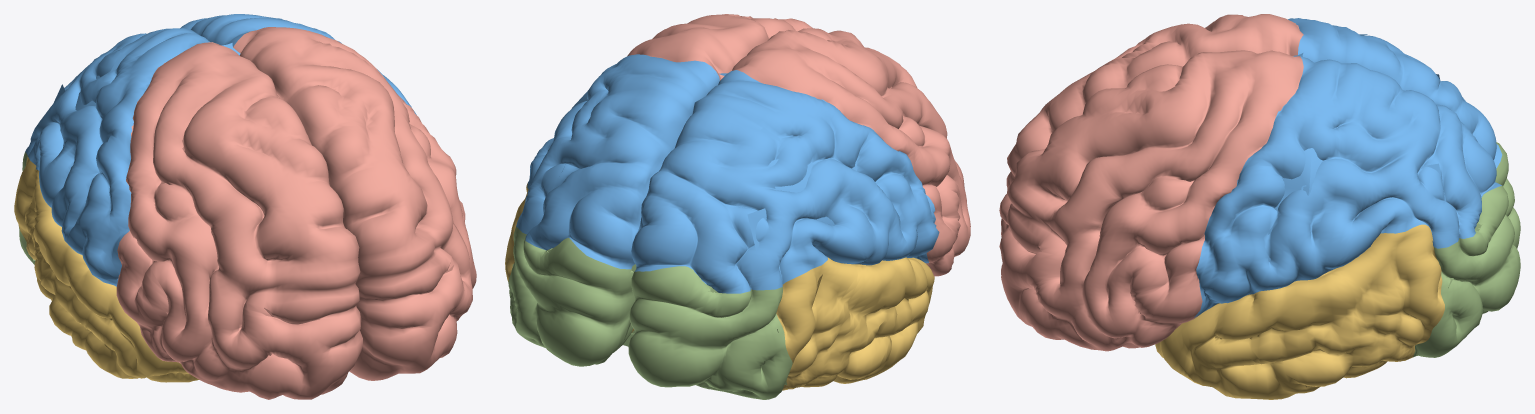
The picture shows the model from 3 angles, left to right: view 1: azimuth 30°, elevation 25°; view 2: azimuth 150°, elevation 25°; view 3: azimuth 270°, elevation 25°; orthographic projection.
Visible parts, largest first — view 1: 2, 3, 1, Sphere_2; view 2: 3, 4, 2, 1, Sphere_2; view 3: 2, 3, 1, 4, Sphere_2.
Boxes of the visible parts, bbox=[...] form: 2: bbox=[116, 27, 476, 399]; 3: bbox=[25, 14, 416, 286]; 1: bbox=[14, 157, 198, 382]; Sphere_2: bbox=[54, 43, 240, 147]; 3: bbox=[516, 54, 939, 293]; 4: bbox=[508, 226, 792, 399]; 2: bbox=[627, 14, 970, 276]; 1: bbox=[505, 183, 934, 390]; Sphere_2: bbox=[562, 73, 857, 252]; 2: bbox=[999, 14, 1303, 351]; 3: bbox=[1194, 18, 1502, 317]; 1: bbox=[1155, 224, 1444, 399]; 4: bbox=[1413, 142, 1520, 357]; Sphere_2: bbox=[1273, 34, 1441, 210].
Bounding box in the file's own units: 13.85 × 11.18 × 17.57.
